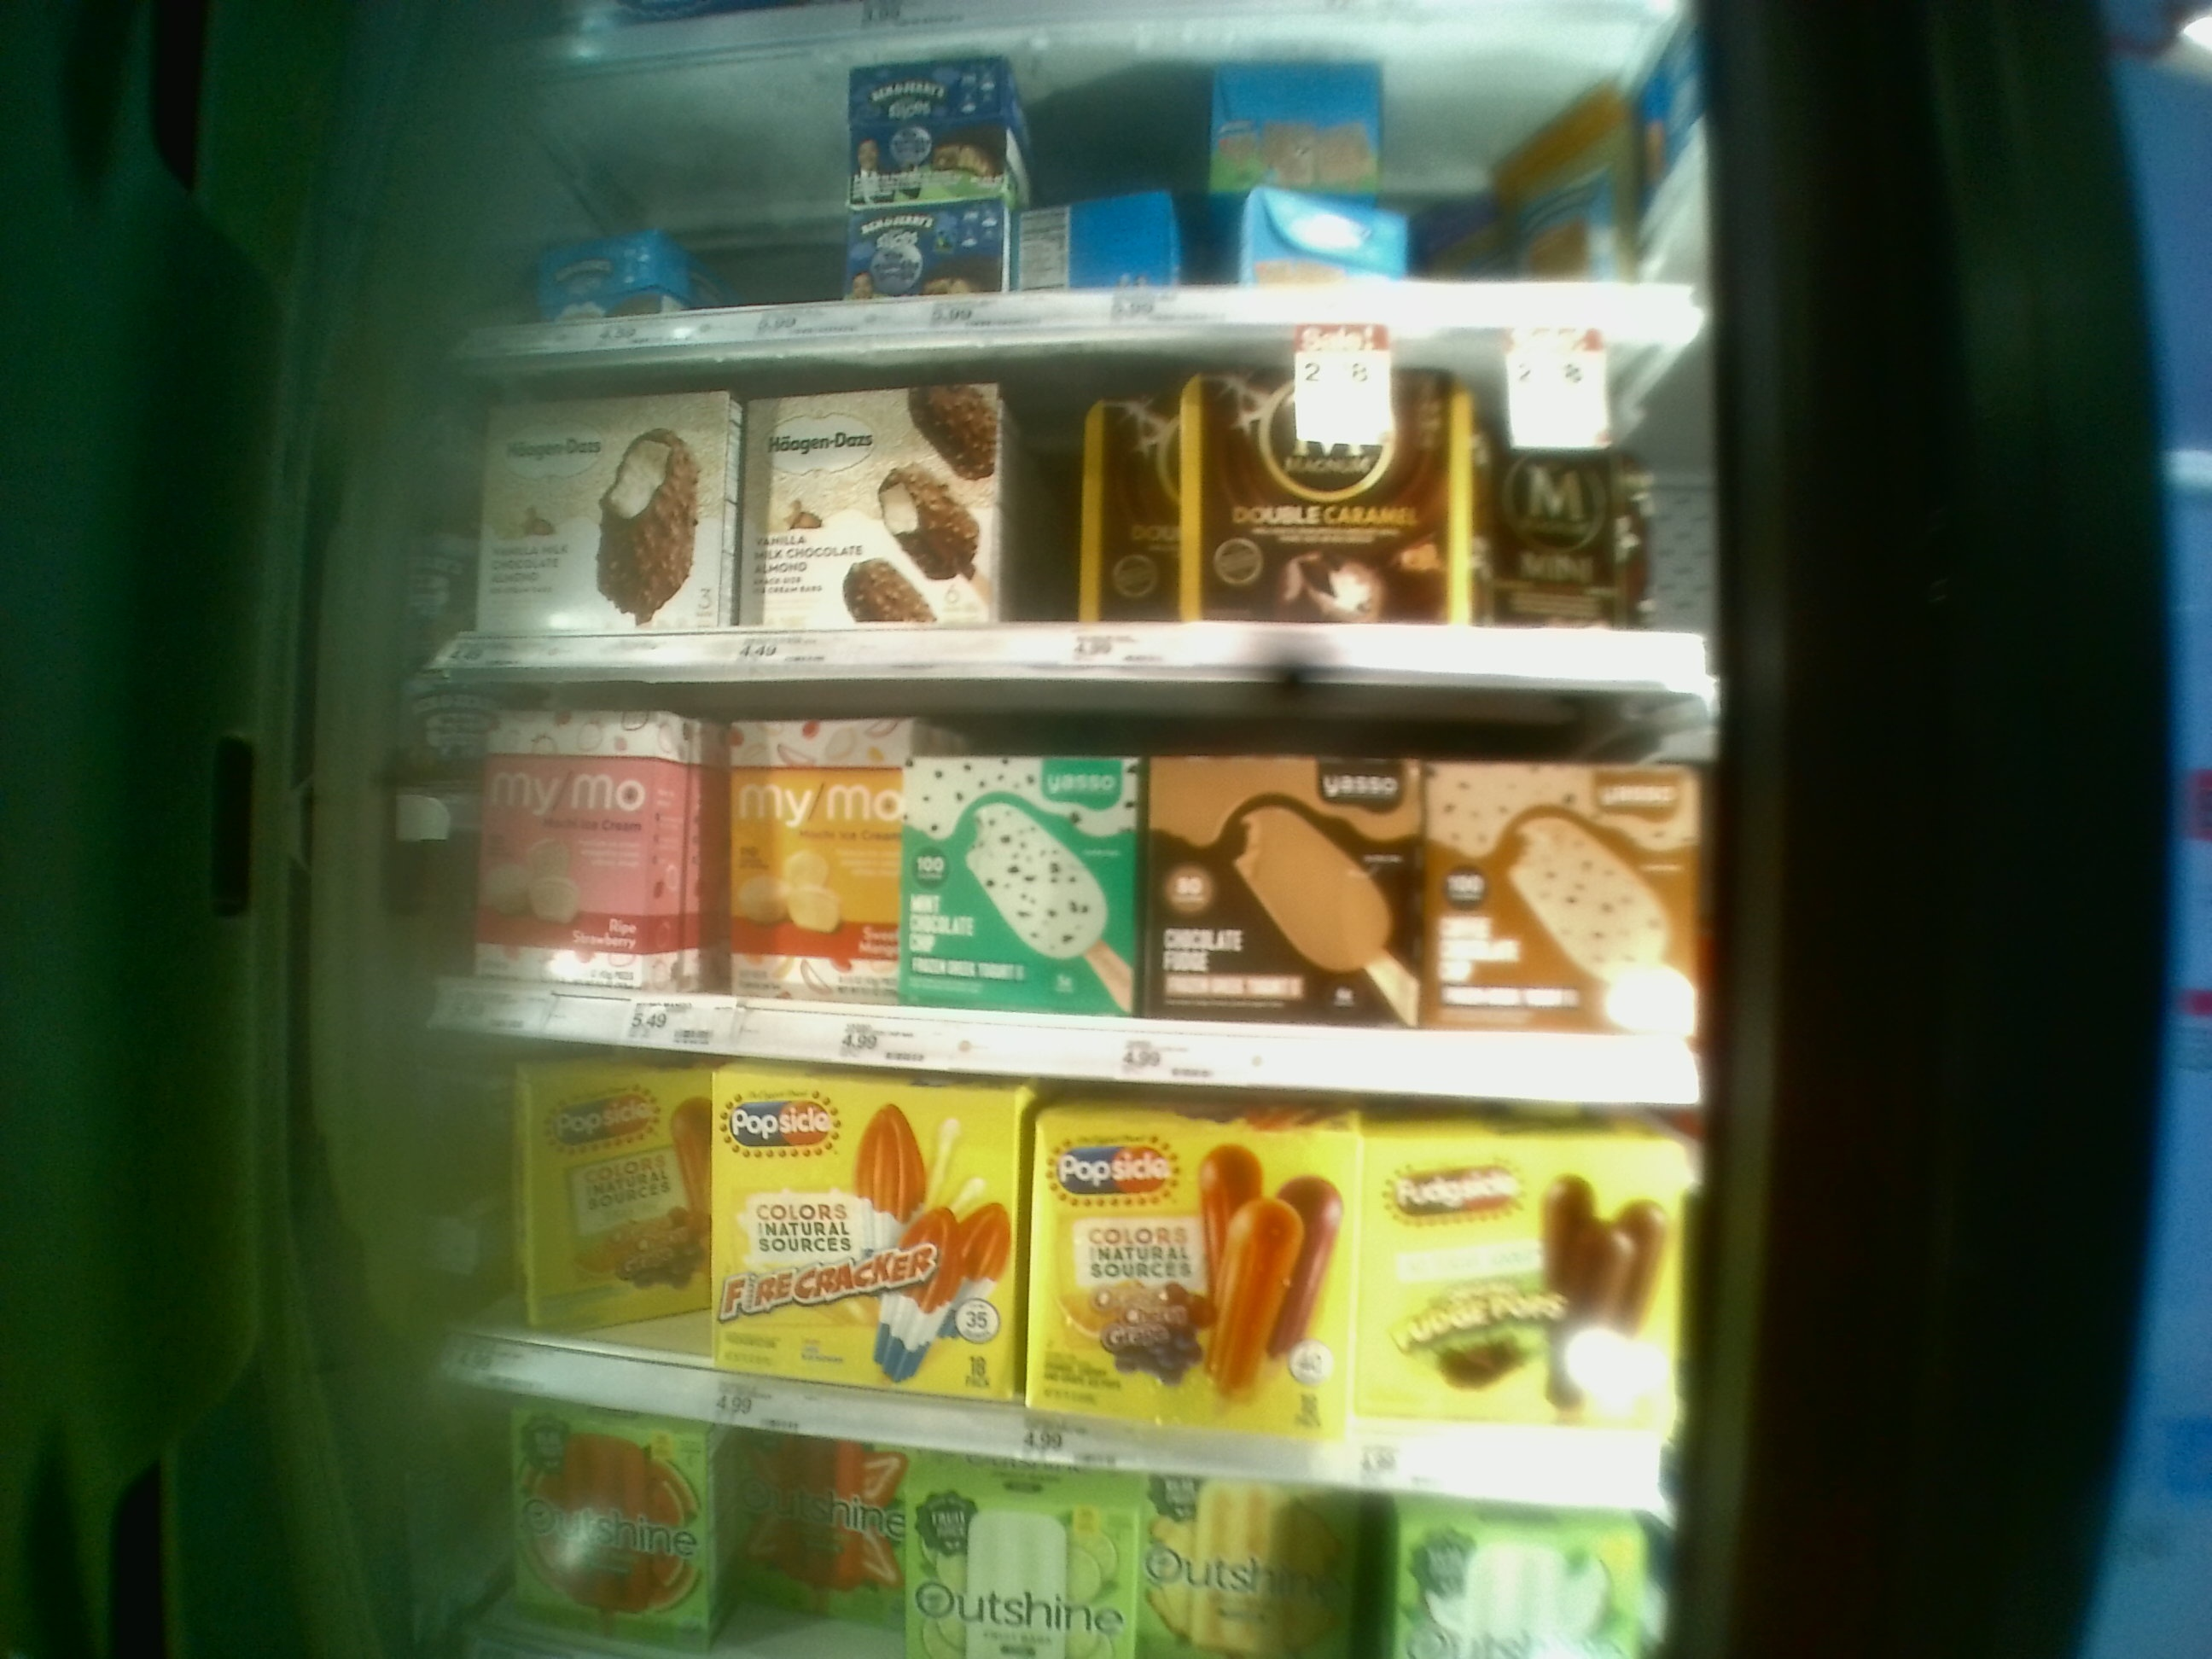shelf: (415, 1033, 1703, 1507), (409, 676, 1724, 1103), (434, 322, 1721, 676)
